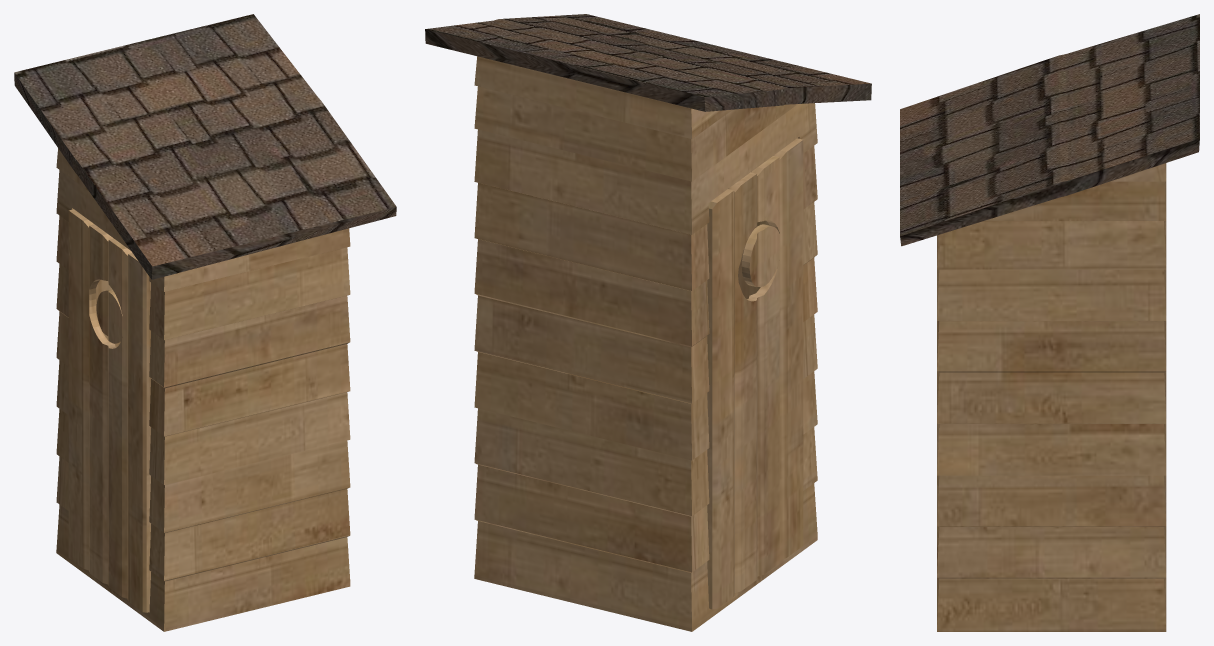
The model's file is outhouse.gltf.
3 views of the same model, side by side, from view 1: azimuth 30°, elevation 25°; view 2: azimuth 150°, elevation 25°; view 3: azimuth 270°, elevation 25° (orthographic). The views are drawn at different scales.
Visible parts, largest first — view 1: Plane, Plane.001; view 2: Plane, Plane.001; view 3: Plane.
Boxes of the visible parts, x1,y1,x2,y2 form: Plane: (14, 14, 396, 631); Plane.001: (68, 209, 151, 612); Plane: (425, 14, 871, 631); Plane.001: (707, 138, 803, 609); Plane: (900, 14, 1199, 631).
Bounding box in the file's own units: 1.34 × 2.5 × 1.33.
Materials: 2 (2 with a texture image).
